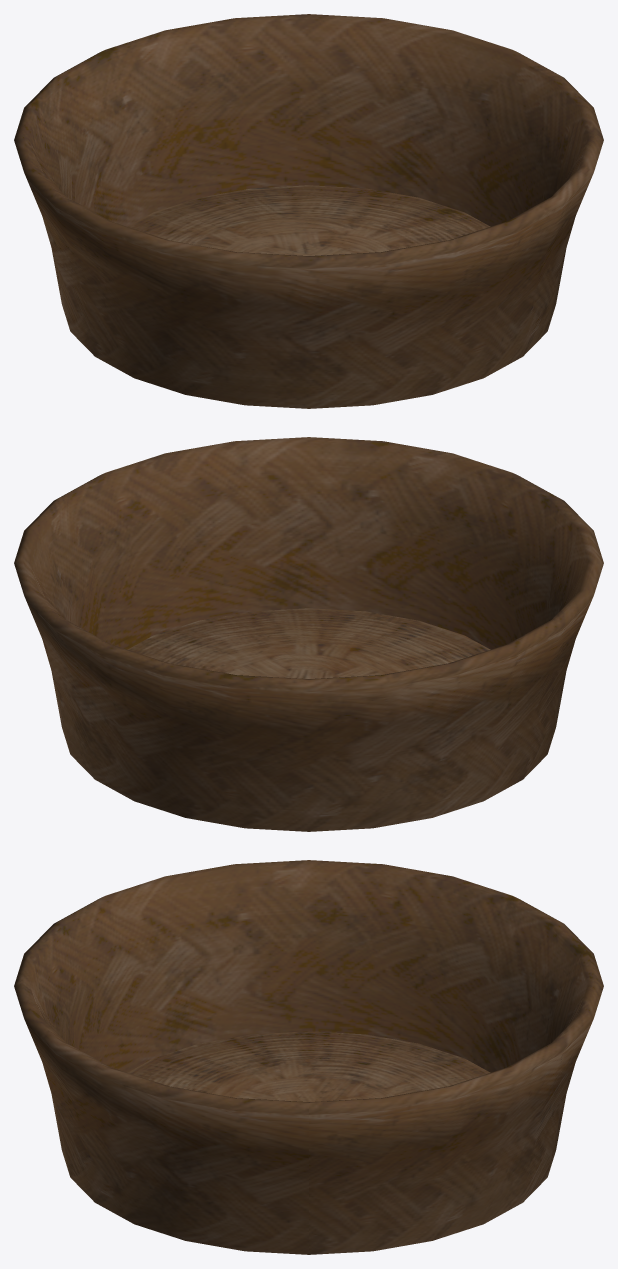
The model's file is basket.glb.
3 views of the same model, one above another, from view 1: azimuth 30°, elevation 25°; view 2: azimuth 150°, elevation 25°; view 3: azimuth 270°, elevation 25° (orthographic).
Parts seen in each view (by area): view 1: SM_Basket01a; view 2: SM_Basket01a; view 3: SM_Basket01a.
Part boxes in pixels (x1=…): SM_Basket01a: x1=14, y1=14, x2=603, y2=408; SM_Basket01a: x1=14, y1=437, x2=603, y2=831; SM_Basket01a: x1=14, y1=860, x2=603, y2=1254.
Size of the model in its own units: 0.6652 by 0.2103 by 0.6652.
1 material, 1 textured.
